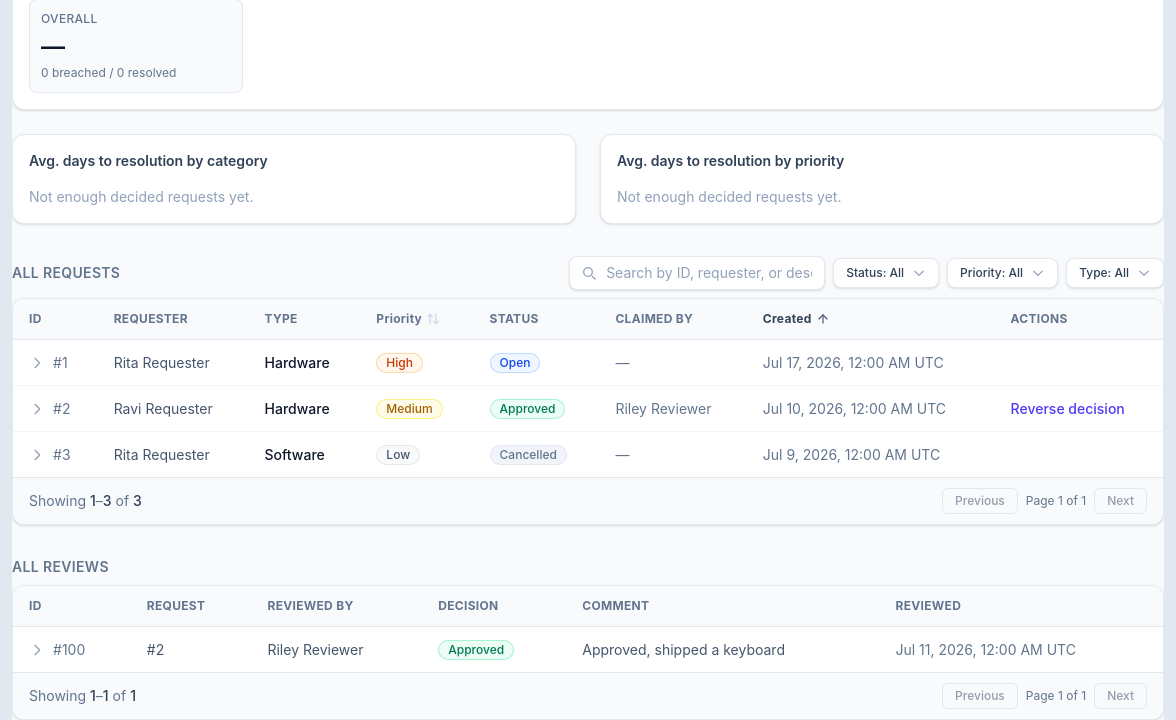
Test: AdminDashboardPage — expandable request/review detail › expands a row in "All reviews" to show the underlying request's full detail, including the review outcome and resolvedAt-based SLA state
(page scrolled)
Expected: the text "Need a keyboard" is not shown
Click the text "#100": (57, 649) [29, 640, 85, 658]
(page scrolled)
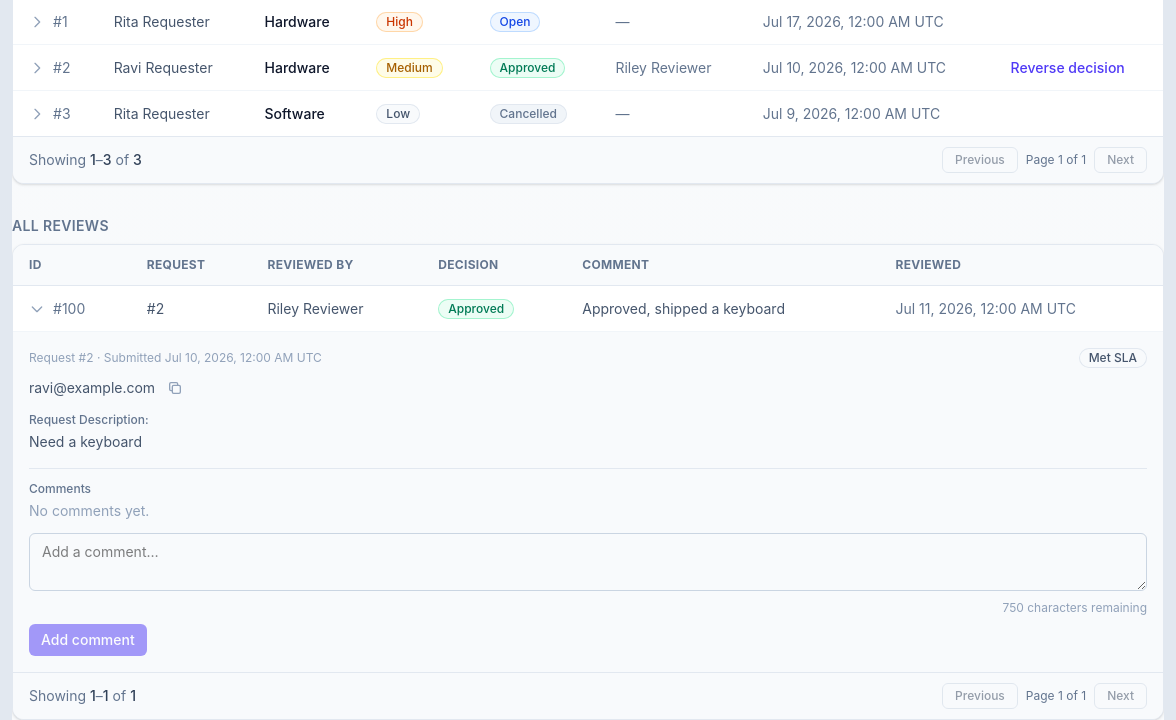
Now the text "Need a keyboard" is shown, box [29, 433, 142, 450]
Now the text box with placeholder "Add a comment…" is shown, box [29, 533, 1147, 591]
